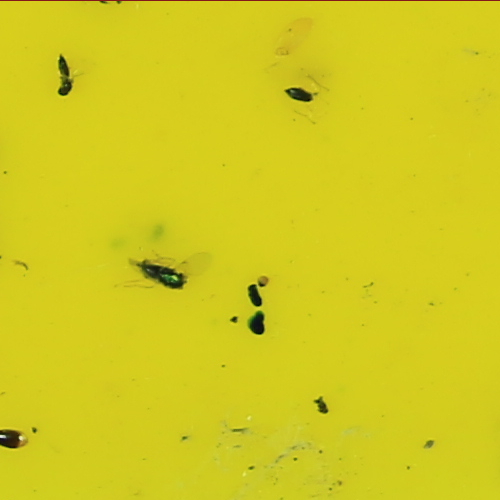Psyllaephagus: (136, 259, 189, 292)
